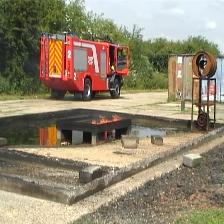fire: (92, 114, 125, 125)
